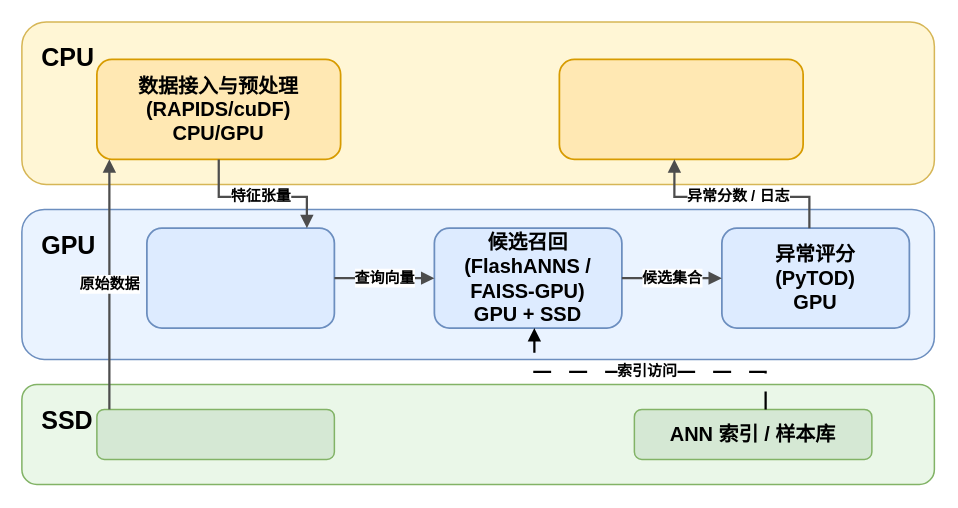
This 958x508 diagram has some shape labels left out. Here are the shapes that lost their labels. From the top down, the centre of each, then its label:
pixel 680 109: 结果输出与日志 CPU
pixel 240 277: 查询向量组织 GPU
pixel 215 433: 原始交易 / 行为数据
